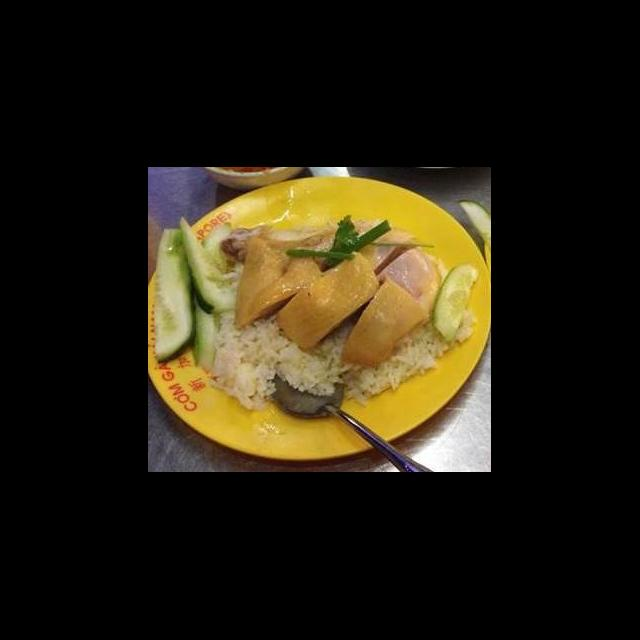com: (208, 308, 349, 412), (344, 319, 454, 406)
com ga: (148, 198, 476, 472)
thit ga: (273, 228, 422, 354), (336, 245, 444, 372), (232, 220, 348, 332), (218, 216, 380, 278)
